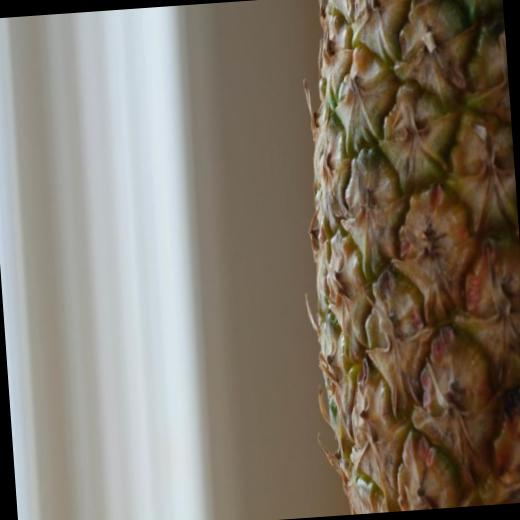Mango: (282, 0, 520, 515)
